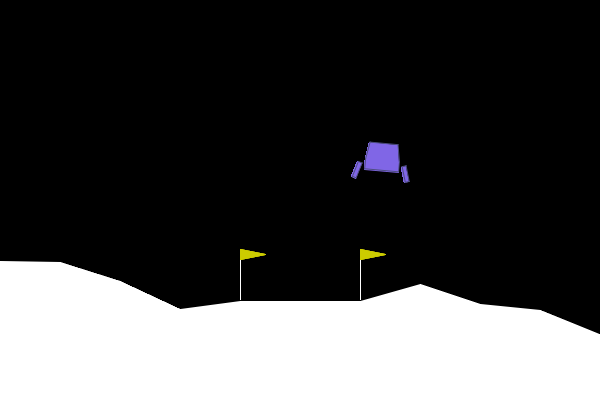lander: (350, 139, 414, 184)
